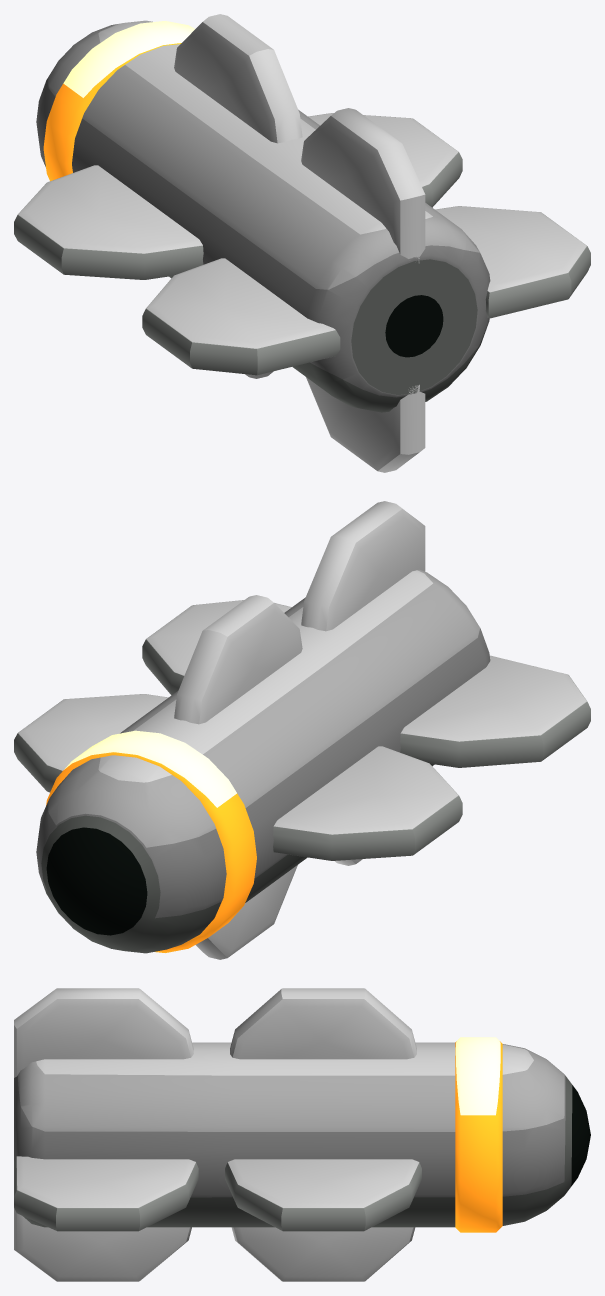
File: white_dart_209.glb
The picture shows the model from 3 angles, top to bottom: view 1: azimuth 30°, elevation 25°; view 2: azimuth 150°, elevation 25°; view 3: azimuth 270°, elevation 25°; orthographic projection. The views are drawn at different scales.
Parts seen in each view (by area): view 1: body, fin0r, fin1r, fin0u, fin0l, fin1u, band, fin0d, fin1l; view 2: body, fin1r, fin0r, fin0u, fin1u, band, fin1l, fin0l, fin1d; view 3: body, fin1l, fin0l, fin0u, fin1u, band, fin0d, fin1d.
Boxes of the visible parts, x1=… form: body: x1=36, y1=20, x2=490, y2=412; fin0r: x1=142, y1=258, x2=340, y2=375; fin1r: x1=14, y1=165, x2=203, y2=279; fin0u: x1=301, y1=108, x2=425, y2=263; fin0l: x1=435, y1=206, x2=590, y2=318; fin1u: x1=174, y1=14, x2=302, y2=143; band: x1=43, y1=21, x2=194, y2=181; fin0d: x1=306, y1=377, x2=425, y2=472; fin1l: x1=308, y1=113, x2=462, y2=207; body: x1=36, y1=569, x2=490, y2=953; fin1r: x1=273, y1=746, x2=462, y2=860; fin0r: x1=400, y1=655, x2=590, y2=767; fin0u: x1=301, y1=501, x2=425, y2=631; fin1u: x1=174, y1=595, x2=302, y2=724; band: x1=46, y1=730, x2=256, y2=952; fin1l: x1=14, y1=694, x2=168, y2=792; fin0l: x1=142, y1=600, x2=291, y2=695; fin1d: x1=196, y1=865, x2=297, y2=959; body: x1=14, y1=1042, x2=590, y2=1227; fin1l: x1=225, y1=1159, x2=421, y2=1231; fin0l: x1=14, y1=1156, x2=198, y2=1231; fin0u: x1=14, y1=988, x2=193, y2=1077; fin1u: x1=230, y1=988, x2=416, y2=1059; band: x1=455, y1=1037, x2=502, y2=1232; fin0d: x1=14, y1=1208, x2=191, y2=1281; fin1d: x1=231, y1=1227, x2=415, y2=1281.
Size of the model in its own units: 9.2 by 7.18 by 13.05.
